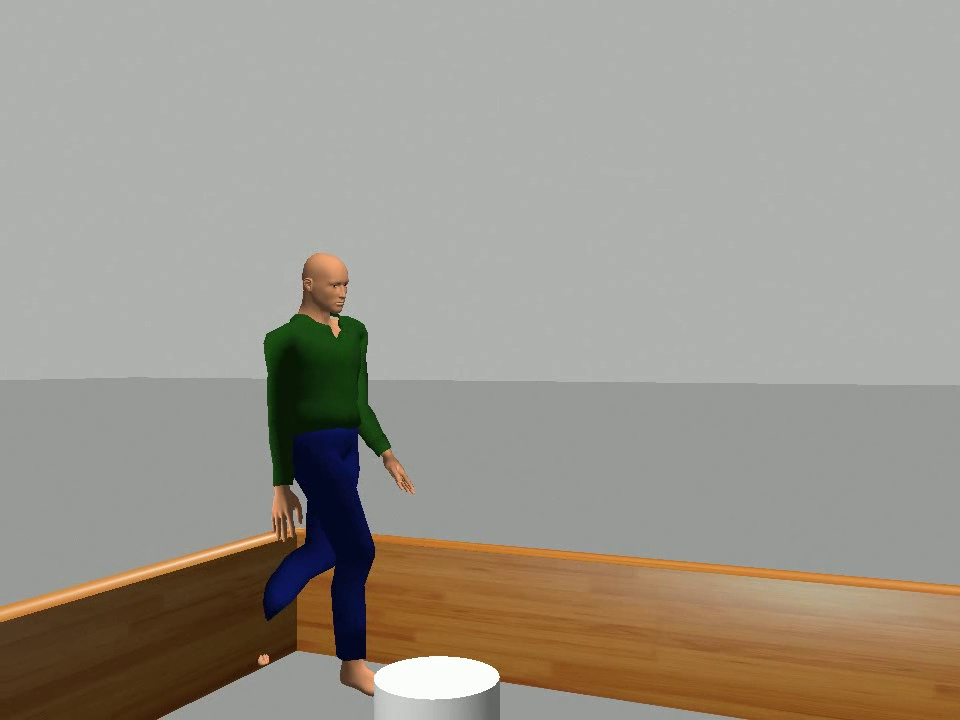person: (256, 250, 419, 703)
